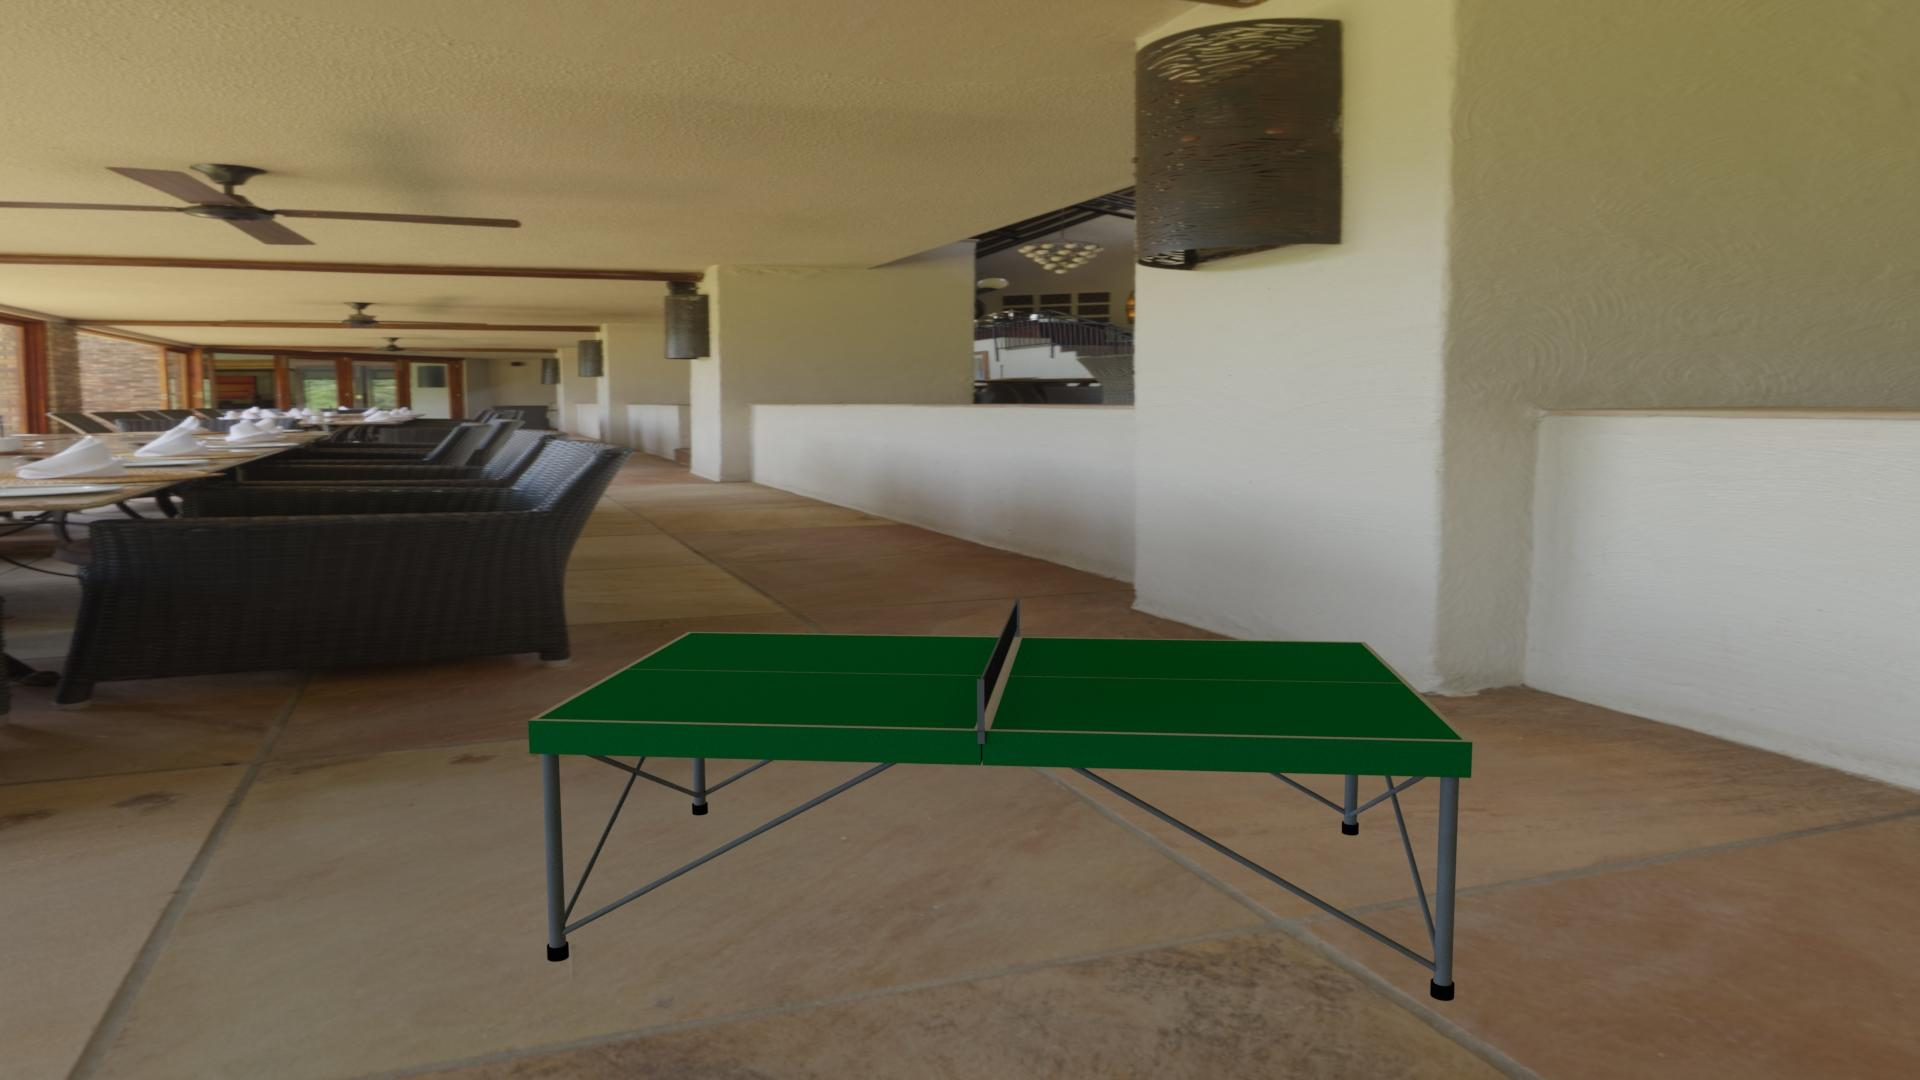table: (537, 633, 1464, 740)
